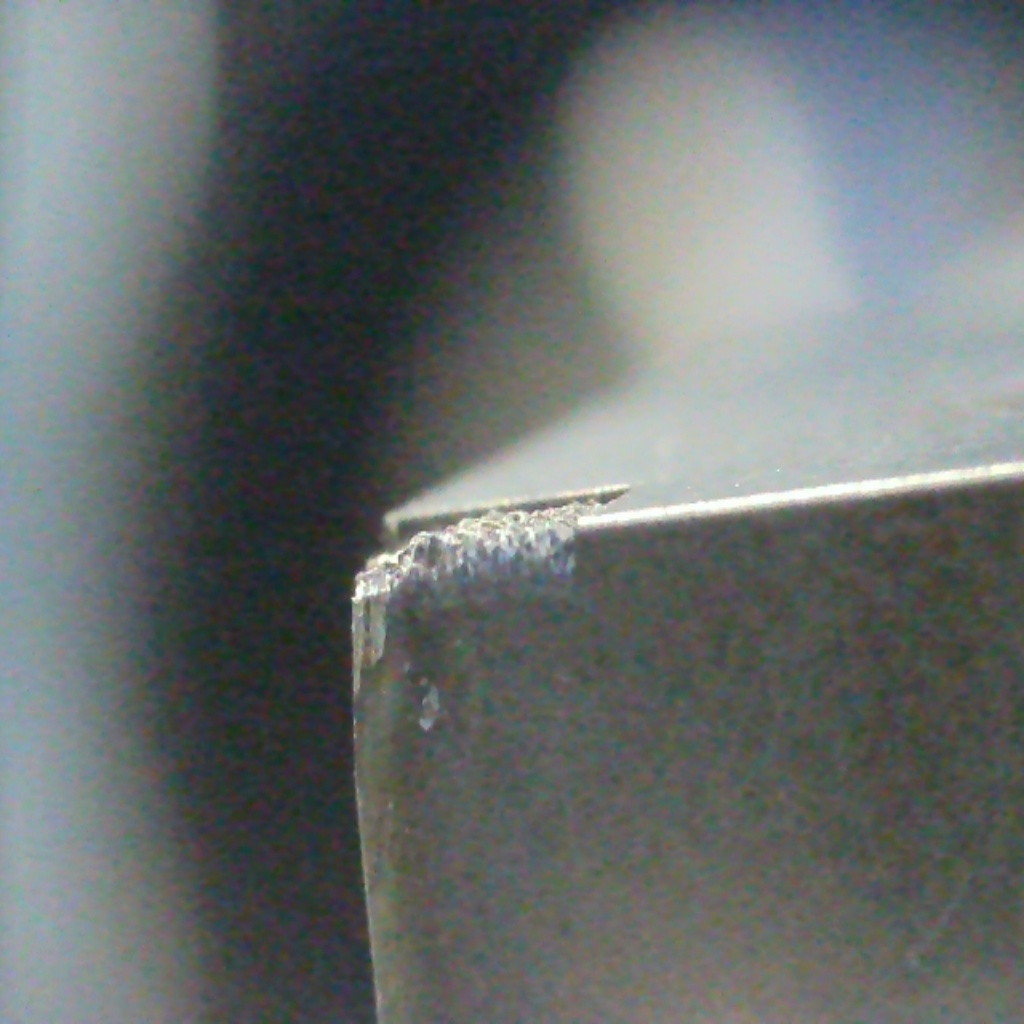flank_wear: (349, 563, 398, 715)
